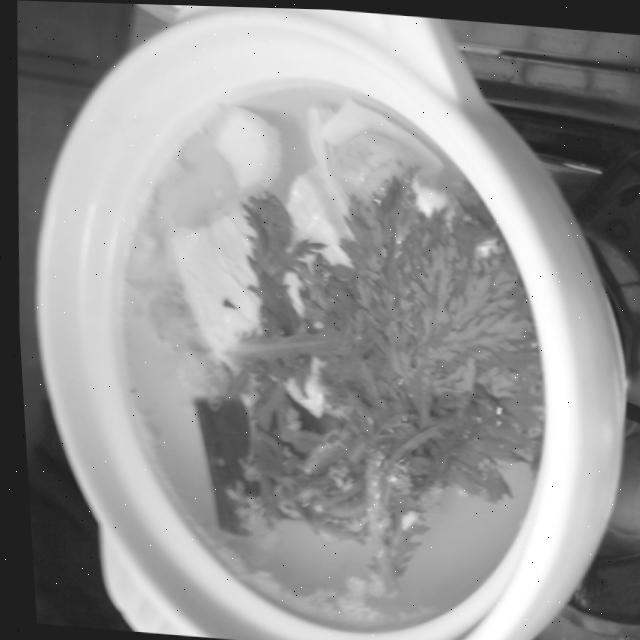豆腐料理: (8, 14, 623, 640)
